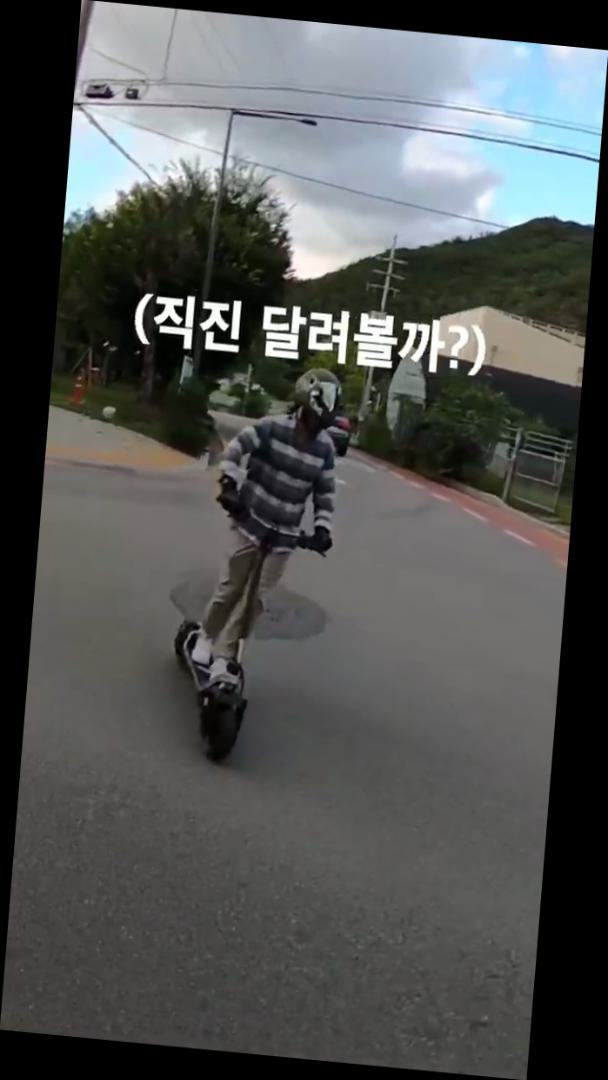helmet: (162, 353, 353, 775)
